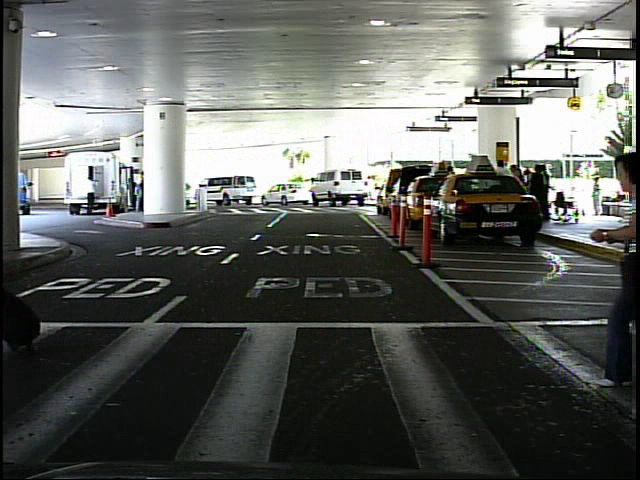person: (588, 172, 607, 218), (83, 173, 101, 218), (366, 171, 379, 204)
